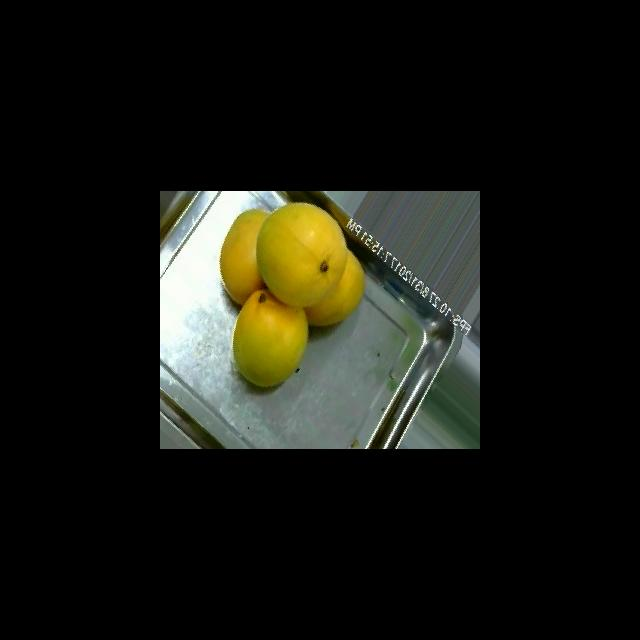mango: (255, 201, 348, 307), (232, 289, 308, 388), (219, 208, 270, 305), (304, 248, 365, 327)
